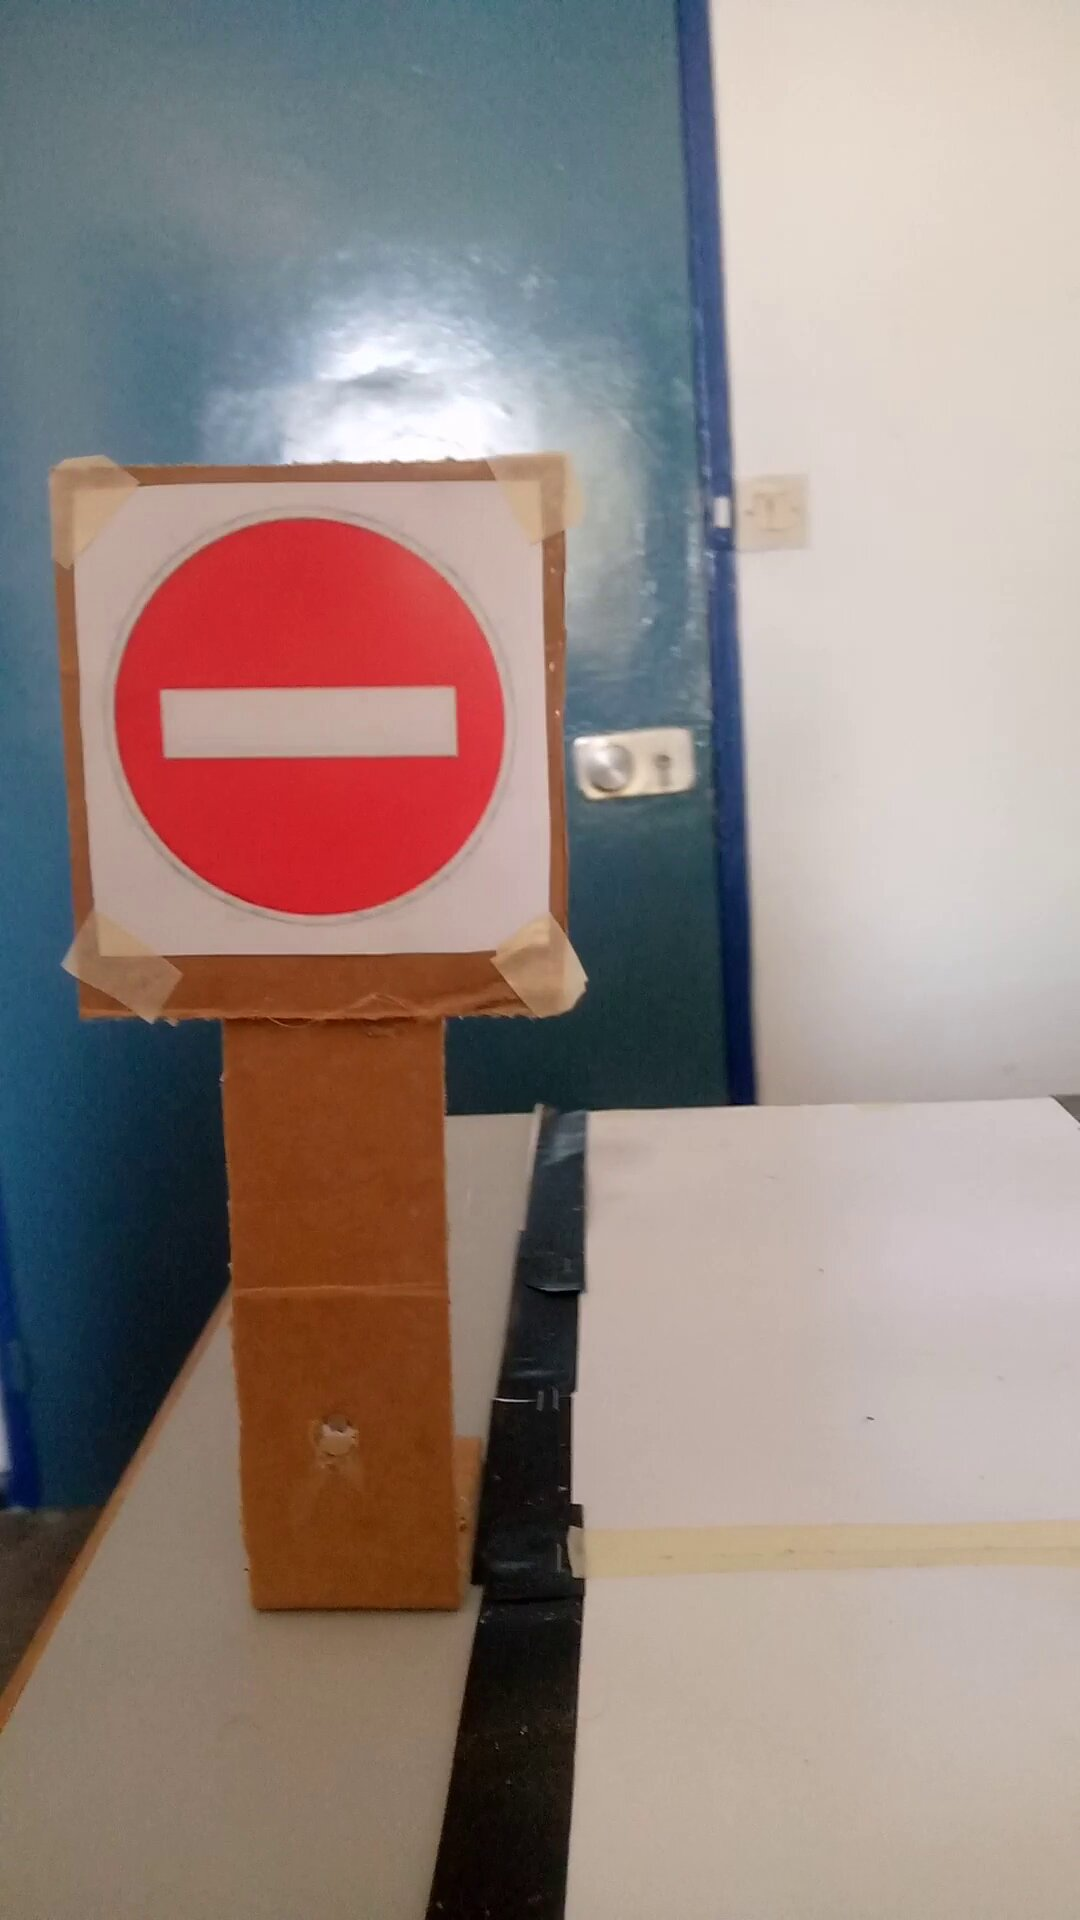panel010: (70, 480, 555, 980)
